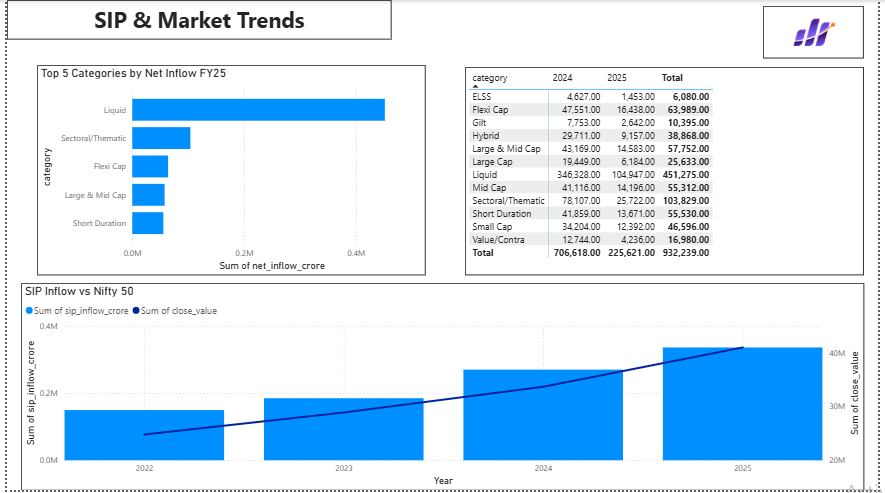

The page's visual inventory and layout, read from the dashboard file:
{"tool":"powerbi","page":{"name":"SIP & Market Trends ","canvas":[1280,720],"ordinal":3},"visuals":[{"type":"lineClusteredColumnComboChart","title":"SIP Inflow vs Nifty 50","fields":{"Y":["Sum(clean_monthly_sip_inflows.sip_inflow_crore)"],"Y2":["Sum(clean_benchmark_indices.close_value)"],"Category":["DateTable.Year"]},"box":[20.7,415.8,1238.6,304.8],"z":0},{"type":"pivotTable","fields":{"Values":["Sum(clean_category_inflows.net_inflow_crore)"],"Rows":["clean_category_inflows.category"],"Columns":["DateTable.Year"]},"box":[673.3,99.1,586,306.3],"z":1000},{"type":"clusteredBarChart","title":"Top 5 Categories by Net Inflow FY25","fields":{"Category":["clean_category_inflows.category"],"Y":["Sum(clean_category_inflows.net_inflow_crore)"]},"box":[44.4,96.2,571.2,309.3],"z":2000},{"type":"textbox","box":[0,0,565.3,57.7],"z":2001},{"type":"image","box":[1111.3,8.9,148,76.9],"z":2002}]}

Visuals, with their boxes in screenshot pixels (x1, y1, x2, y2), scaled from the page's 1280x720 canvas onto the 885x493 screenshot:
"SIP Inflow vs Nifty 50" lineClusteredColumnComboChart: (14, 285, 871, 492)
pivotTable - Sum(clean_category_inflows.net_inflow_crore) x clean_category_inflows.category: (466, 68, 871, 278)
"Top 5 Categories by Net Inflow FY25" clusteredBarChart: (31, 66, 426, 278)
textbox: (0, 0, 391, 40)
image: (768, 6, 871, 59)
